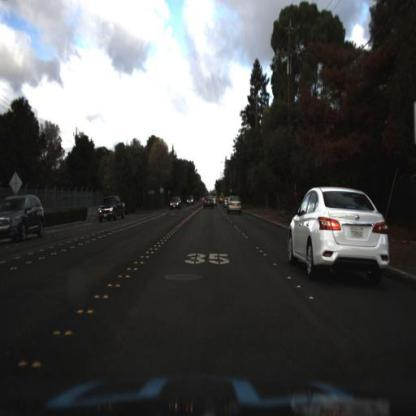car: (285, 186, 397, 295), (1, 195, 48, 245), (95, 195, 127, 221), (225, 197, 244, 220), (204, 195, 216, 211), (170, 196, 181, 212)
